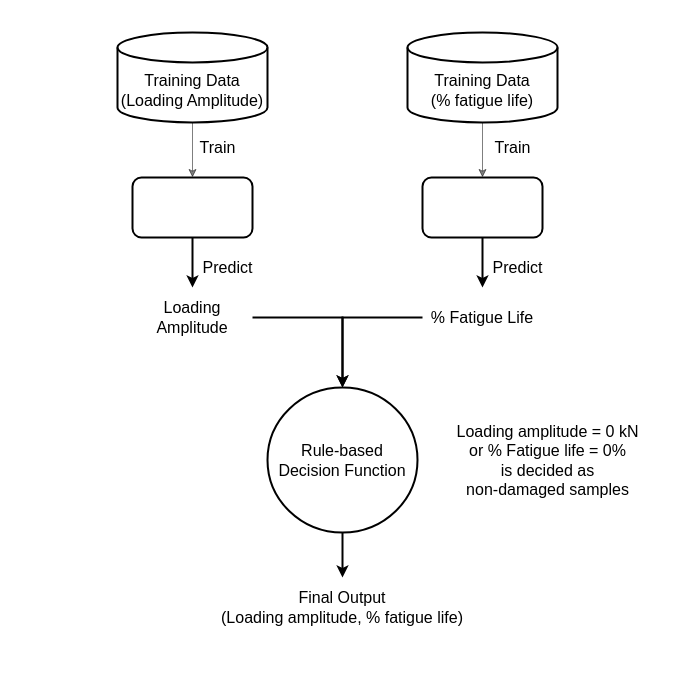
This 674x674 diagram has some shape labels left out. The centre of each missing label's shape, as x and y in pixels:
"Fatigue Cycle Classifier" belongs at point (482, 207).
"Loading Amplitude Classifier" belongs at point (192, 207).
